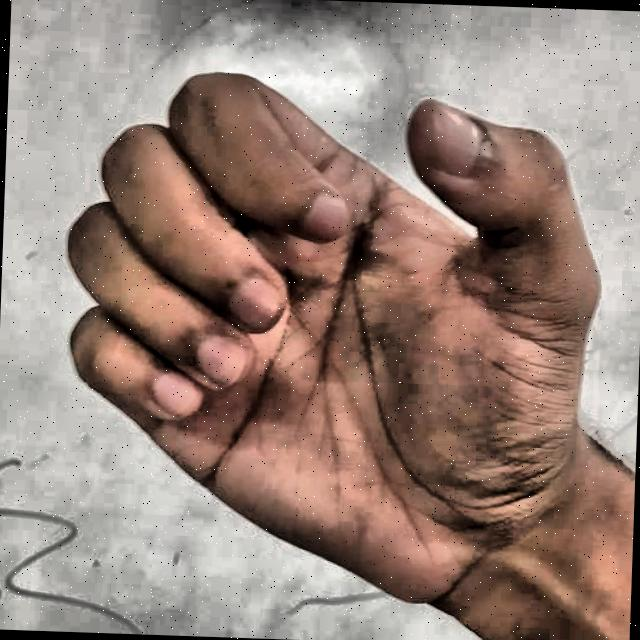Dho: (30, 36, 614, 634)
